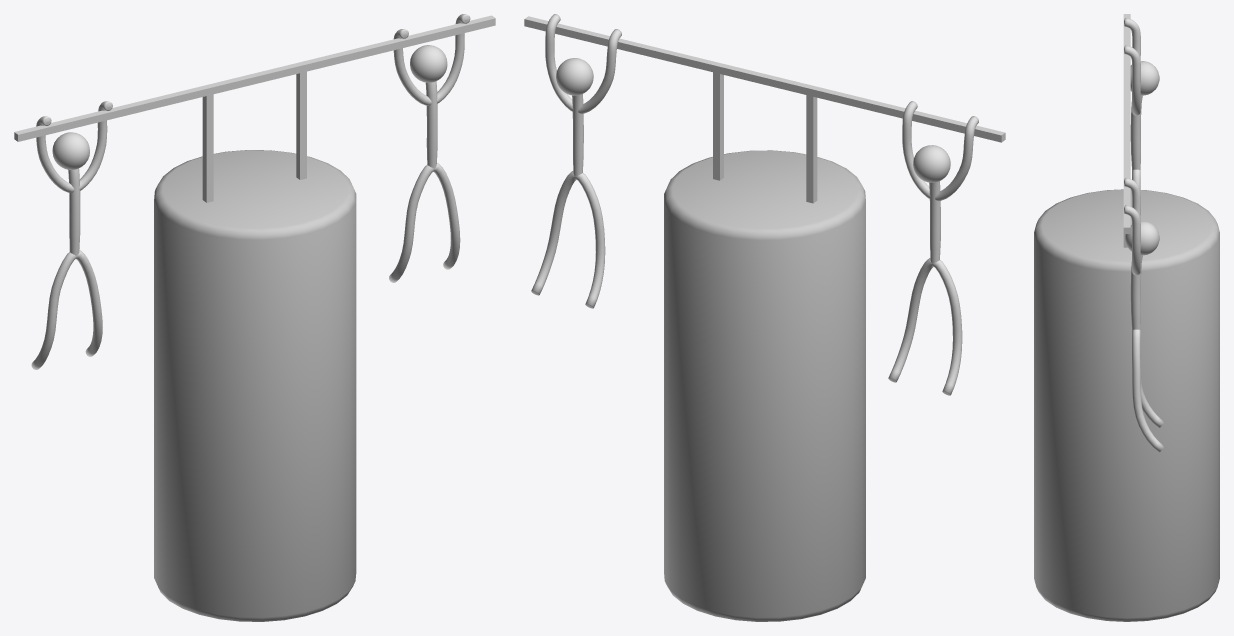
Rendered from Decor_02.FBX.
3 renders of one model, left to right at view 1: azimuth 30°, elevation 25°; view 2: azimuth 150°, elevation 25°; view 3: azimuth 270°, elevation 25°, orthographic. The views are drawn at different scales.
Parts seen in each view (by area): view 1: Decor_02; view 2: Decor_02; view 3: Decor_02.
Part boxes in pixels (x1=…): Decor_02: x1=14, y1=14, x2=495, y2=621; Decor_02: x1=524, y1=14, x2=1005, y2=621; Decor_02: x1=1034, y1=14, x2=1219, y2=621.
Bounding box in the file's own units: 0.4617 × 0.4778 × 0.1699.
